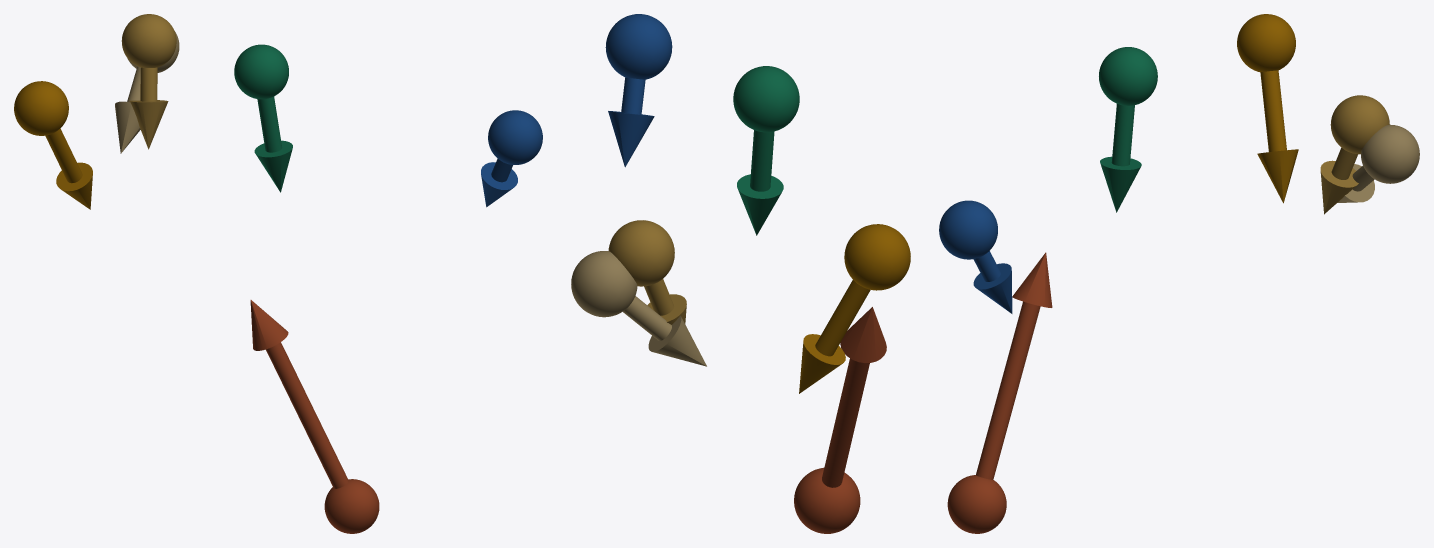
Rendered from retarget_anchors.glb.
3 views of the same model, side by side, from view 1: azimuth 30°, elevation 25°; view 2: azimuth 150°, elevation 25°; view 3: azimuth 270°, elevation 25° (orthographic). The views are drawn at different scales.
Parts seen in each view (by area): view 1: sharpa; view 2: sharpa; view 3: sharpa.
Part boxes in pixels (x1,y1,x2,y2): sharpa: (14,14,542,533); sharpa: (571,14,910,533); sharpa: (939,14,1419,533).
Size of the model in its own units: 0.0724 by 0.0791 by 0.0732.
